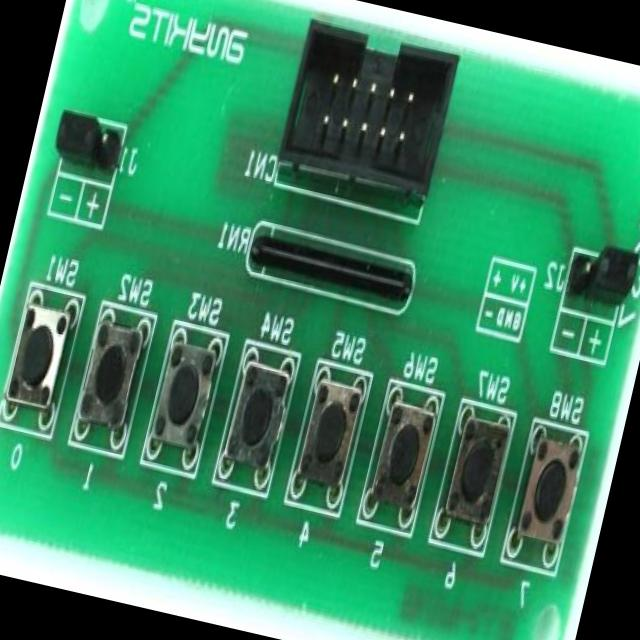connector: (276, 17, 460, 201), (44, 104, 134, 192), (561, 238, 640, 329)
